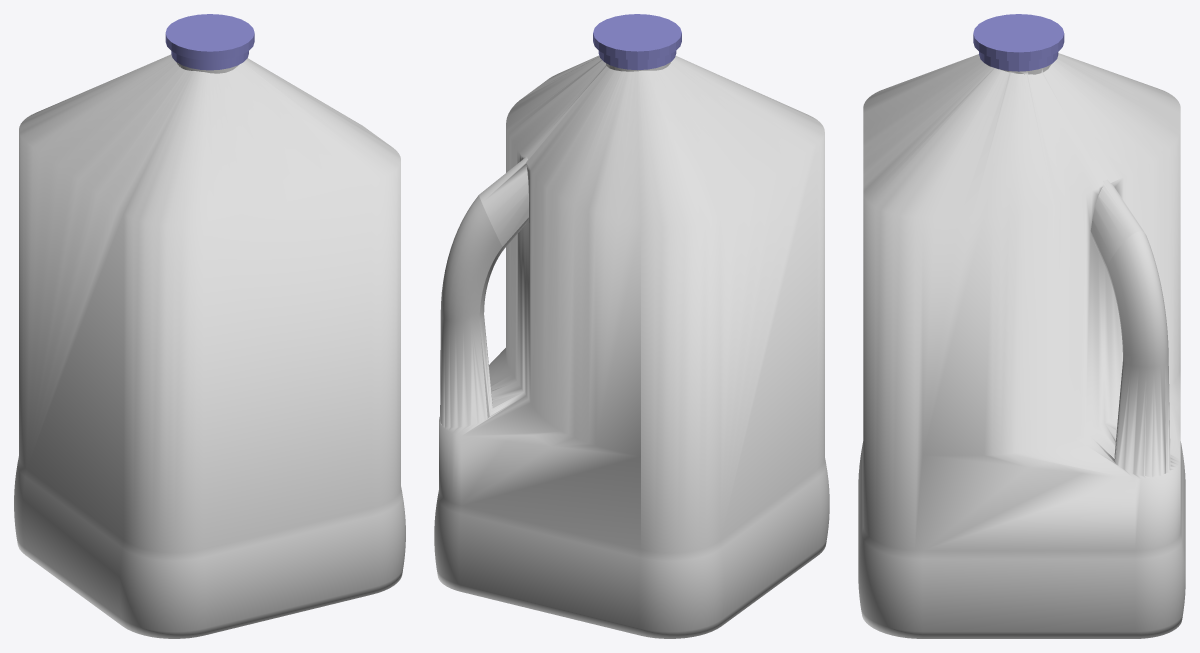
The model's file is milk_carton_plastic.fbx.
3 renders of one model, left to right at view 1: azimuth 30°, elevation 25°; view 2: azimuth 150°, elevation 25°; view 3: azimuth 270°, elevation 25°, orthographic. The views are drawn at different scales.
Parts seen in each view (by area): view 1: milk_carton, milk_carton_cap; view 2: milk_carton, milk_carton_cap; view 3: milk_carton, milk_carton_cap.
Boxes of the visible parts, box(x1,y1,x2,y2) form: milk_carton: box(14, 54, 405, 638); milk_carton_cap: box(165, 14, 254, 70); milk_carton: box(434, 55, 829, 638); milk_carton_cap: box(593, 14, 681, 70); milk_carton: box(858, 53, 1185, 638); milk_carton_cap: box(973, 14, 1064, 71).
Size of the model in its own units: 0.646 by 1.19 by 0.646.
